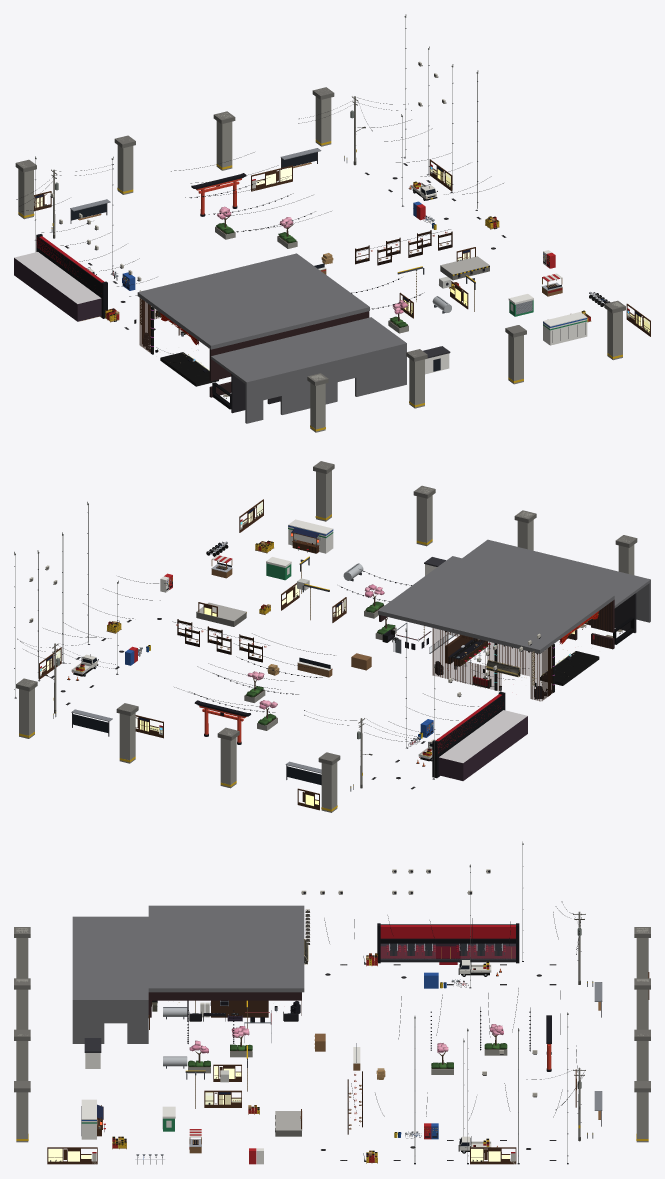
The model's file is kb-props.glb.
3 renders of one model, top to bottom at view 1: azimuth 30°, elevation 25°; view 2: azimuth 150°, elevation 25°; view 3: azimuth 270°, elevation 25°, orthographic. The views are drawn at different scales.
Visible parts, largest first — view 1: kb, gj, kbp, kbpachi; view 2: kb, gj, kbp, kbpachi, hero; view 3: kb, gj, kbp, kbpachi.
Part boxes in pixels (x1,y1,x2,y2): kb: [36, 229, 452, 423]; gj: [15, 87, 625, 432]; kbp: [16, 14, 650, 386]; kbpachi: [14, 252, 101, 321]; kb: [172, 539, 650, 778]; gj: [16, 461, 637, 812]; kbp: [14, 499, 612, 810]; kbpachi: [438, 710, 527, 780]; hero: [176, 611, 622, 685]; kb: [72, 905, 519, 1134]; gj: [14, 912, 650, 1164]; kbp: [47, 841, 649, 1164]; kbpachi: [380, 943, 515, 958].
Size of the model in its own units: 67.61 by 22.12 by 83.8.
Materials: 45 (9 with a texture image).
